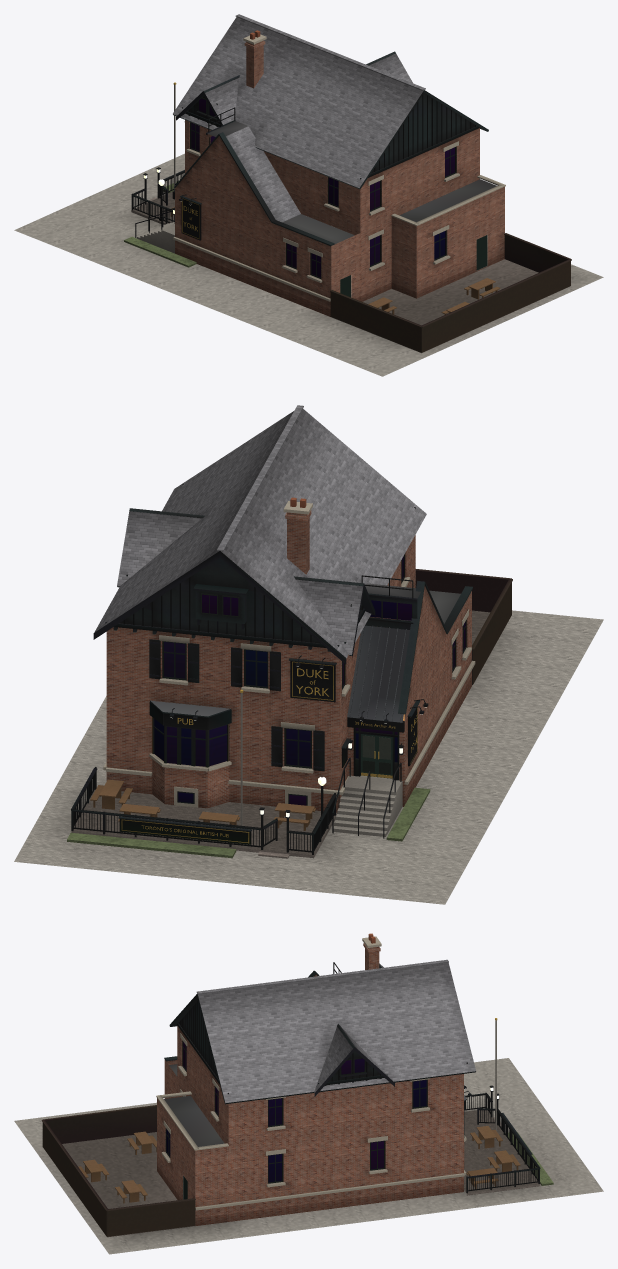
The model's file is duke-of-york.glb.
3 renders of one model, top to bottom at view 1: azimuth 30°, elevation 25°; view 2: azimuth 150°, elevation 25°; view 3: azimuth 270°, elevation 25°, orthographic. The views are drawn at different scales.
Parts seen in each view (by area): view 1: DukeOfYork_Walls, DukeOfYork_Roof, DukeOfYork_Paving, DukeOfYork_Trim, DukeOfYork_Glass, DukeOfYork_Lawn; view 2: DukeOfYork_Paving, DukeOfYork_Trim, DukeOfYork_Roof, DukeOfYork_Walls, DukeOfYork_Glass, DukeOfYork_Lawn, Door_Main_R, Door_Main_L; view 3: DukeOfYork_Walls, DukeOfYork_Roof, DukeOfYork_Paving, DukeOfYork_Trim, DukeOfYork_Glass.
Boxes of the visible parts, left/top/right/bottom form: DukeOfYork_Walls: left=175, top=40, right=504, bottom=316; DukeOfYork_Roof: left=173, top=14, right=496, bottom=243; DukeOfYork_Paving: left=14, top=153, right=603, bottom=376; DukeOfYork_Trim: left=131, top=30, right=571, bottom=352; DukeOfYork_Glass: left=191, top=98, right=454, bottom=277; DukeOfYork_Lawn: left=124, top=180, right=196, bottom=267; DukeOfYork_Paving: left=14, top=610, right=603, bottom=904; DukeOfYork_Trim: left=71, top=484, right=512, bottom=854; DukeOfYork_Roof: left=94, top=405, right=460, bottom=722; DukeOfYork_Walls: left=106, top=510, right=471, bottom=812; DukeOfYork_Glass: left=154, top=556, right=465, bottom=805; DukeOfYork_Lawn: left=67, top=787, right=430, bottom=858; Door_Main_R: left=377, top=735, right=392, bottom=778; Door_Main_L: left=361, top=734, right=376, bottom=776; DukeOfYork_Walls: left=157, top=943, right=464, bottom=1225; DukeOfYork_Roof: left=164, top=959, right=475, bottom=1146; DukeOfYork_Paving: left=14, top=1058, right=603, bottom=1254; DukeOfYork_Trim: left=41, top=933, right=540, bottom=1236; DukeOfYork_Glass: left=166, top=1042, right=426, bottom=1182.
Size of the model in its own units: 28.38 by 14.1 by 35.99.
8 materials, 6 textured.
